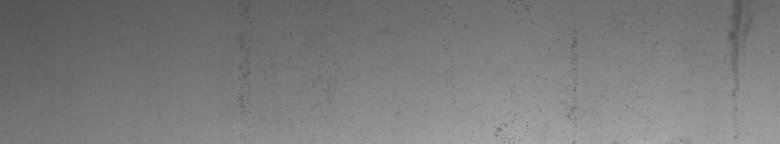ib: (494, 40, 577, 136)
